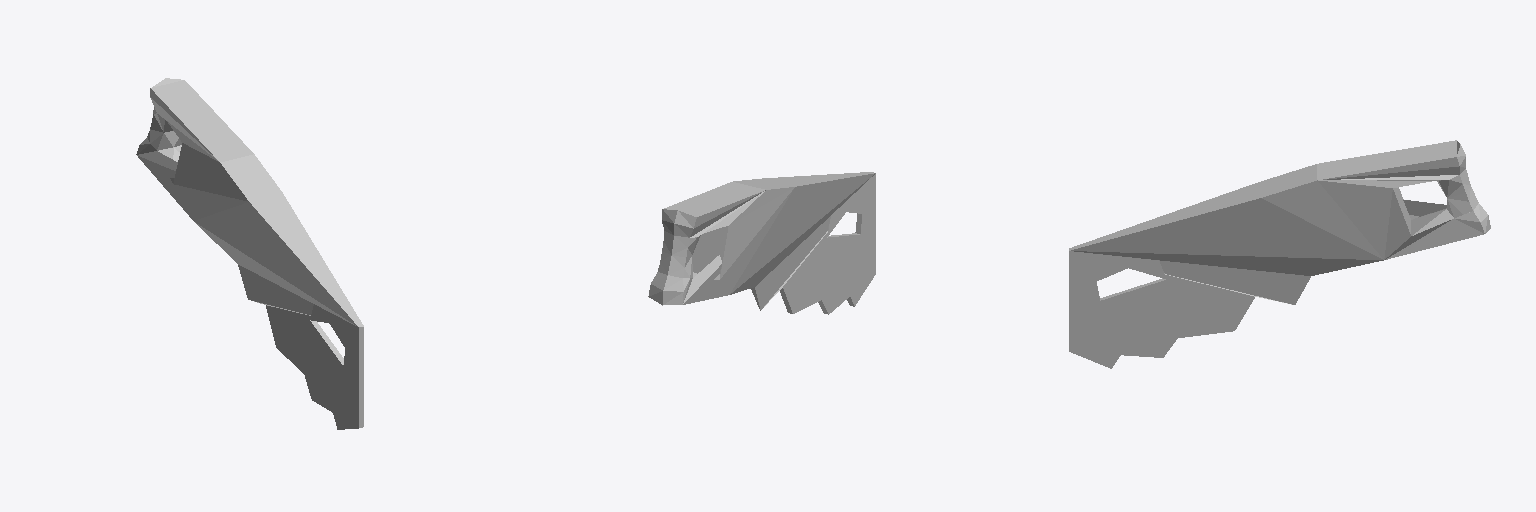
File: saw.obj
3 views of the same model, side by side, from view 1: azimuth 30°, elevation 25°; view 2: azimuth 150°, elevation 25°; view 3: azimuth 270°, elevation 25° (orthographic).
Visible parts, largest first — view 1: Cube; view 2: Cube; view 3: Cube.
Boxes of the visible parts, x1,y1,x2,y2 form: Cube: [136, 78, 363, 429]; Cube: [648, 172, 875, 314]; Cube: [1069, 140, 1490, 368].
Size of the model in its own units: 0.3431 by 2.13 by 3.65.